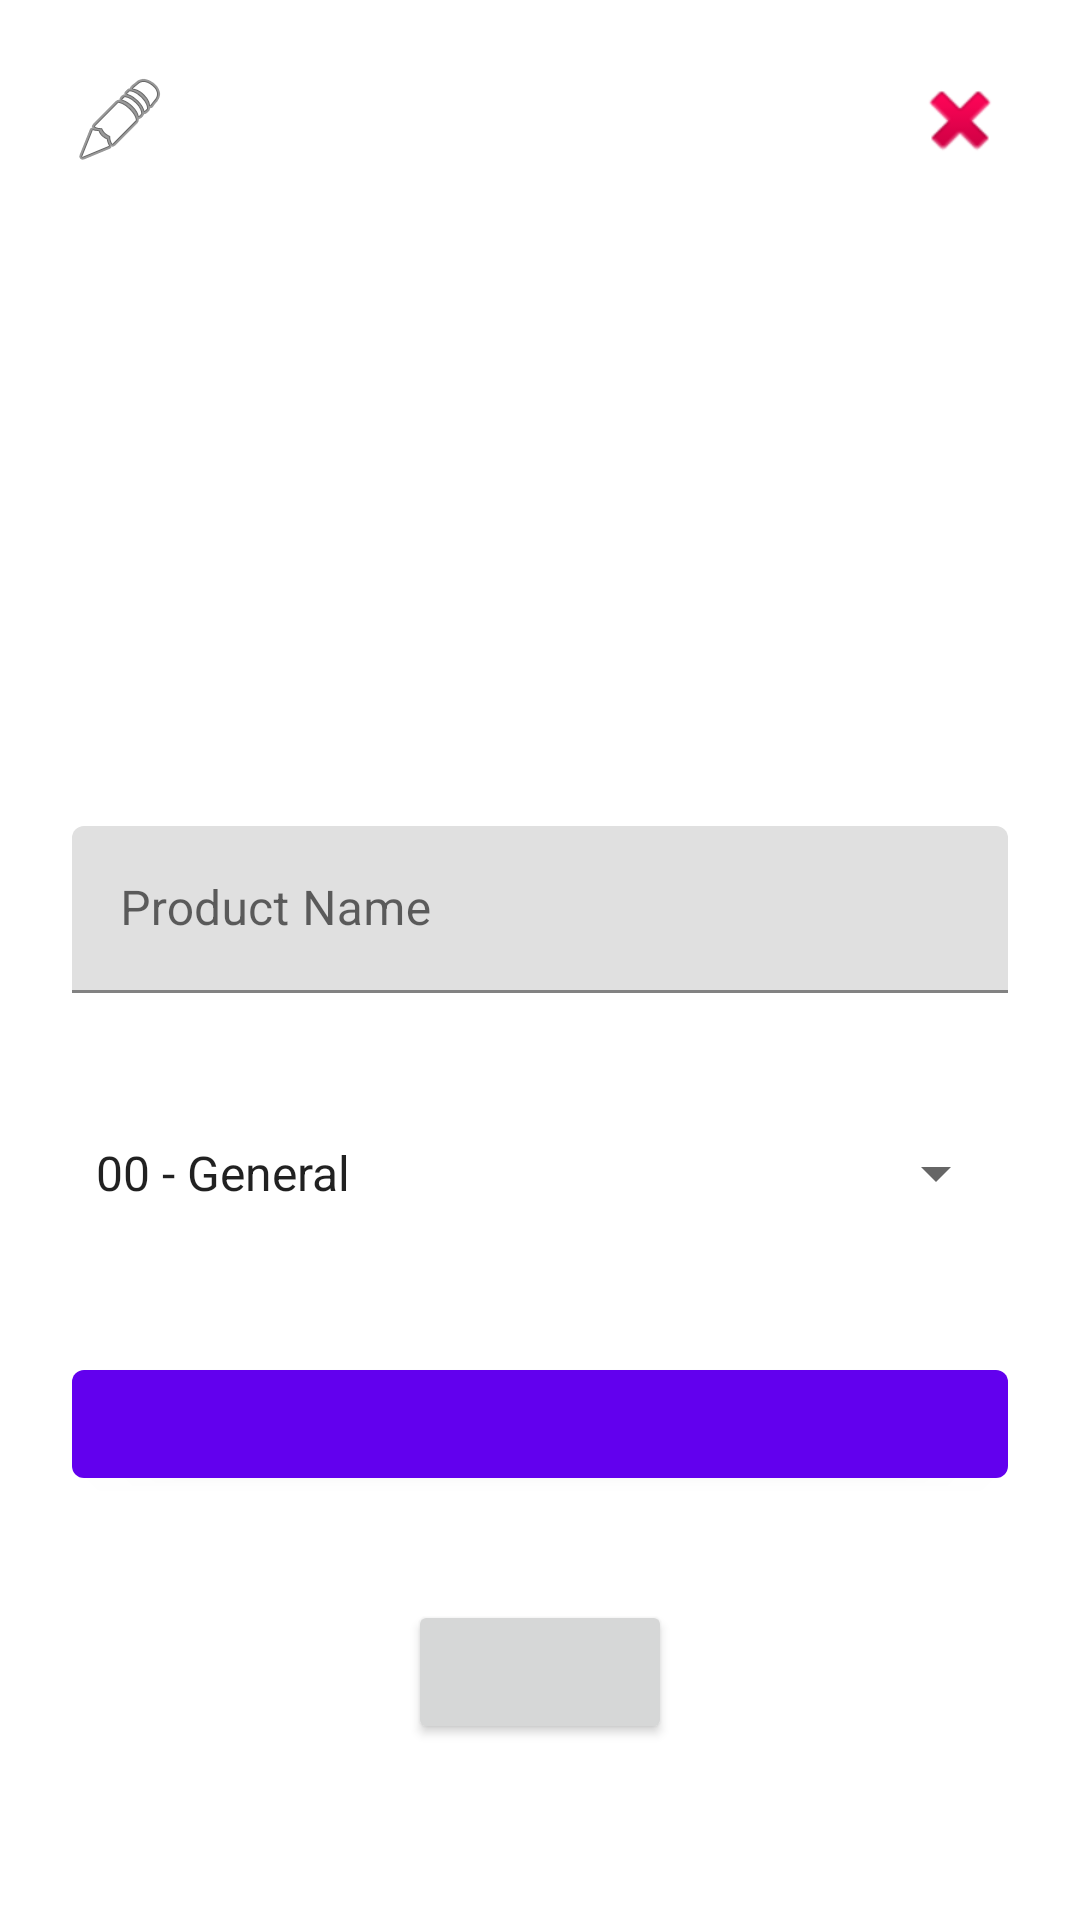

Locate icon controls on the screen. Image size 1080px×1920px, boxes as bbox=(x1, y1, x2, y2).
delete: bbox=(929, 91, 991, 150)
edit: bbox=(79, 79, 160, 160)
